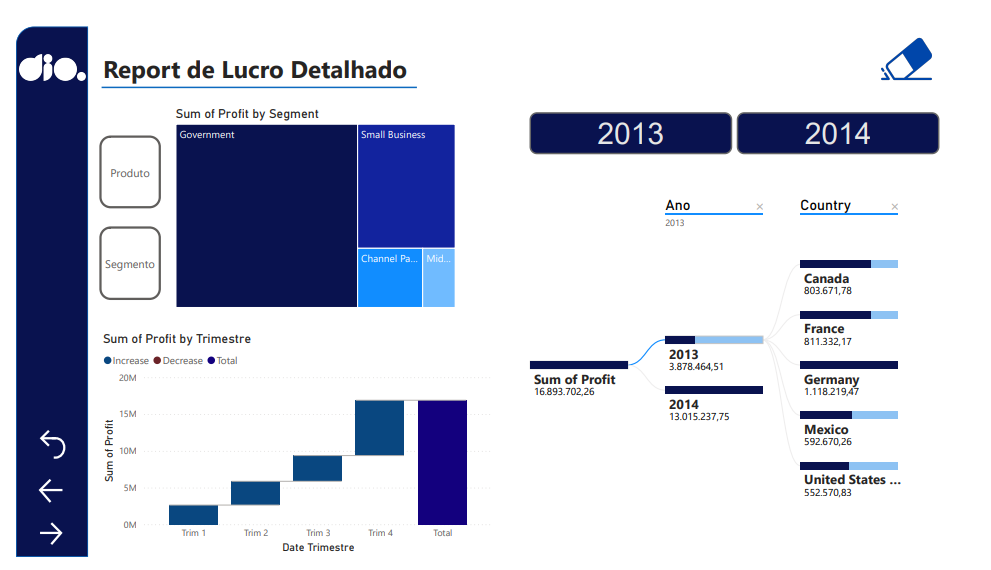

This screenshot's page, from the dashboard's own definition file:
{"tool":"powerbi","page":{"name":"Profit","canvas":[1280,720],"ordinal":1},"visuals":[{"type":"shape","box":[0,13.7,96.4,706.2],"z":0,"group":"g2"},{"type":"shape","box":[113.5,75.3,420.5,40],"z":0,"group":"g1"},{"type":"decompositionTreeVisual","fields":{"Analyze":["Sum(financials.Profit)"],"ExplainBy":["financials.Date.Variation.Hierarquia de datas.Ano","financials.Country"]},"box":[655,227.5,605,458.8],"z":0},{"type":"image","title":"logo_dio","box":[0,36,98.2,63.2],"z":1000,"group":"g2"},{"type":"textbox","box":[110.9,43.2,470,67.3],"z":1000,"group":"g1"},{"type":"treemap","fields":{"Values":["Sum(financials.Profit)"],"Group":["financials.Segment"]},"box":[207.8,120,382.2,272.6],"z":2000},{"type":"image","title":"clean","box":[1146.2,18.8,78.8,76.2],"z":3000},{"type":"waterfallChart","fields":{"Category":["financials.Date.Variation.Hierarquia de datas.Trimestre"],"Y":["Sum(financials.Profit)"]},"box":[110.9,419.1,529.1,300.9],"z":4000},{"type":"ChicletSlicer1448559807354","fields":{"Category":["financials.Date.Variation.Hierarquia de datas.Ano"]},"box":[676.2,120,561.2,77.5],"z":5000},{"type":"group","id":"g1","title":"Sales report","box":[110.9,43.2,470,72.3],"z":6000},{"type":"group","id":"g2","title":"Layout","box":[0,13.7,98.2,706.2],"z":7000},{"type":"actionButton","box":[26.2,611.2,50,41.2],"z":8000},{"type":"actionButton","title":"fsddfds","box":[111.2,158.8,81.2,97.5],"z":9000},{"type":"actionButton","box":[111.2,280,81.2,97.5],"z":10000},{"type":"actionButton","box":[23.8,543.8,50,52.5],"z":11000},{"type":"actionButton","title":"Botão - Next","box":[25.9,669,48.8,39.6],"z":12000}]}

Visuals, with their boxes in screenshot pixels (x1, y1, x2, y2), scaled from the page's 1280x720 canvas onto the 991x570 screenshot:
shape: 0/11/75/569
shape: 88/60/413/91
decompositionTreeVisual - Sum(financials.Profit) x financials.Date.Variation.Hierarquia de datas.Ano: 507/180/976/543
"logo_dio" image: 0/28/76/79
textbox: 86/34/450/87
treemap - Sum(financials.Profit) x financials.Segment: 161/95/457/311
"clean" image: 887/15/948/75
waterfallChart - financials.Date.Variation.Hierarquia de datas.Trimestre x Sum(financials.Profit): 86/332/496/569
ChicletSlicer1448559807354 - financials.Date.Variation.Hierarquia de datas.Ano: 524/95/958/156
"Sales report" group: 86/34/450/91
"Layout" group: 0/11/76/569
actionButton: 20/484/59/516
"fsddfds" actionButton: 86/126/149/203
actionButton: 86/222/149/299
actionButton: 18/431/57/472
"Botão - Next" actionButton: 20/530/58/561
